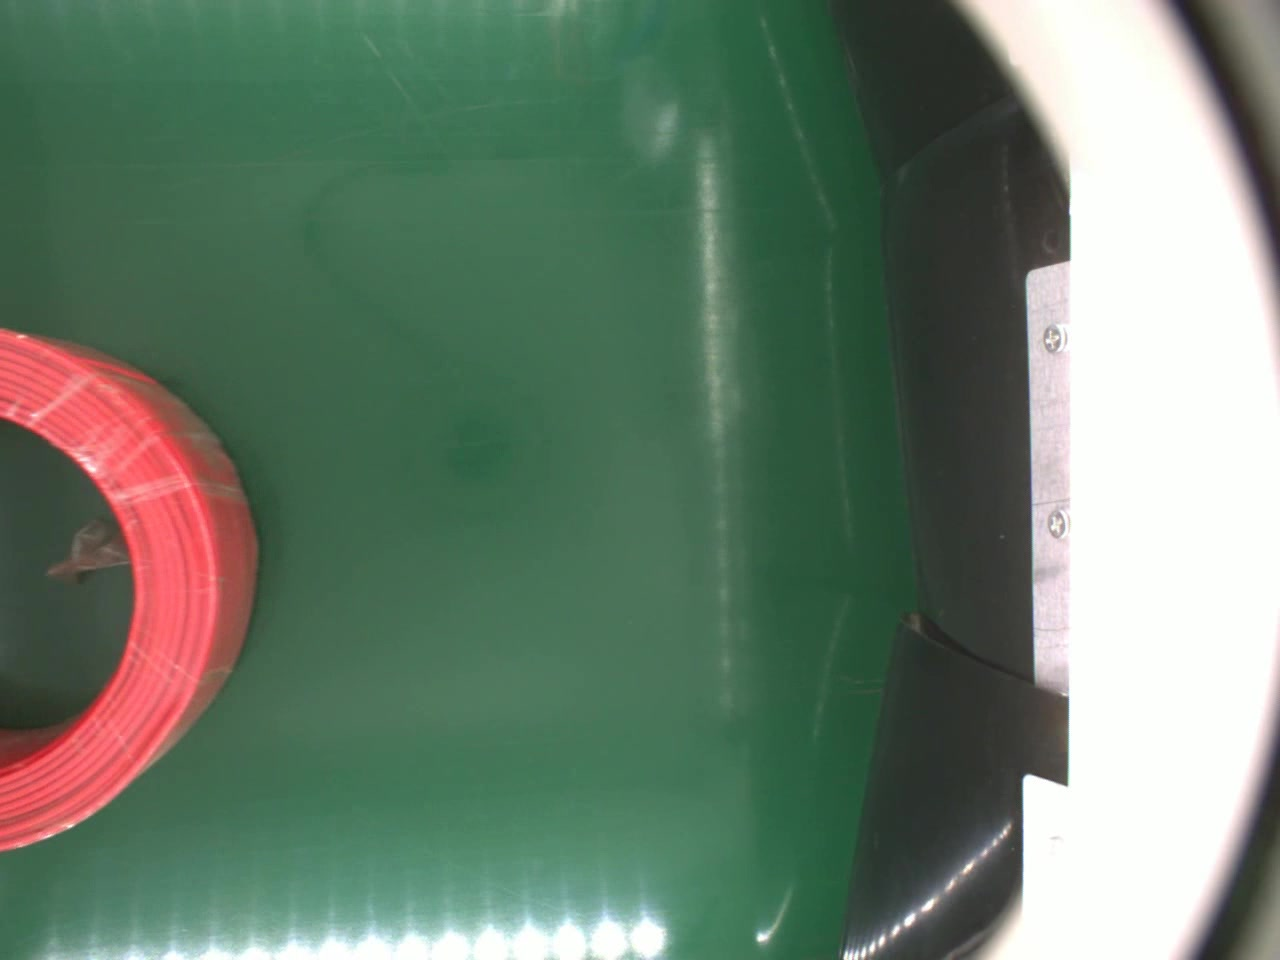red: (0, 324, 262, 858)
